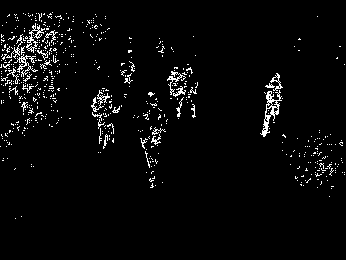person: (134, 93, 168, 189), (91, 86, 121, 156), (261, 71, 282, 137), (178, 65, 198, 118)
